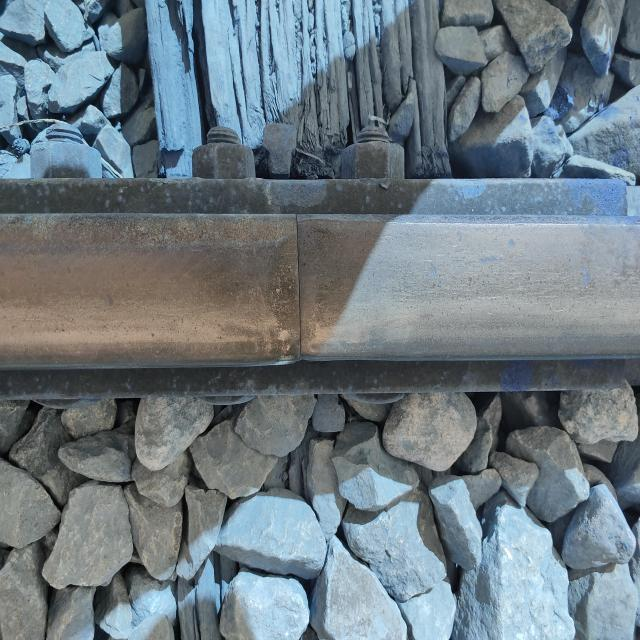Good Joint: (2, 128, 624, 398)
